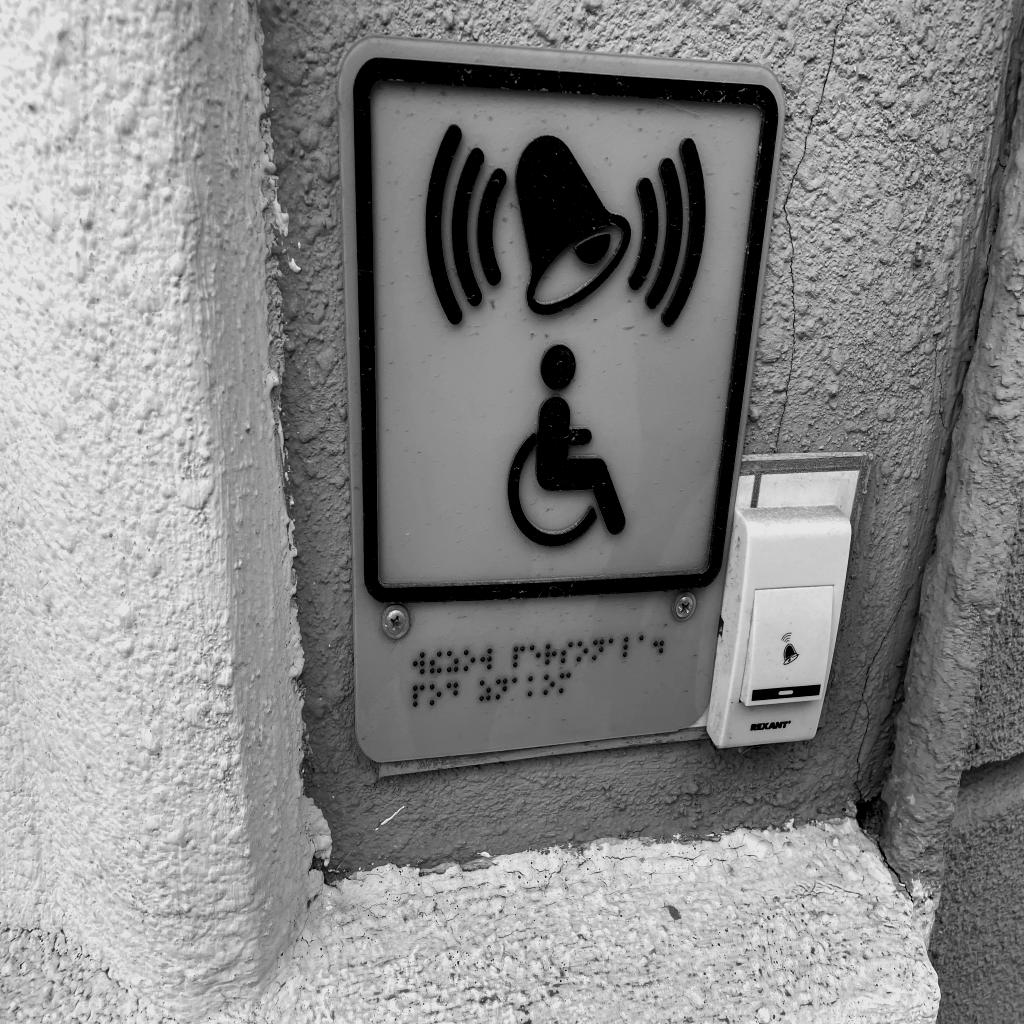_n: (592, 639, 604, 661), (496, 678, 508, 700)
a: (607, 637, 619, 660), (512, 677, 524, 698), (638, 635, 649, 656)
d: (446, 682, 458, 705)
e: (529, 645, 541, 668)
ii: (430, 651, 442, 674)
k: (528, 676, 540, 697)
l: (623, 636, 635, 658)
m: (559, 672, 571, 694)
o: (463, 650, 476, 672), (430, 683, 442, 706), (576, 640, 588, 662), (543, 674, 555, 696)
p: (412, 684, 425, 708), (513, 645, 525, 668)
r: (545, 643, 557, 666)
s: (561, 641, 573, 663)
tochka: (653, 633, 664, 654)
v: (412, 651, 425, 675), (480, 648, 492, 671)
z: (446, 650, 459, 673), (479, 680, 491, 702)
